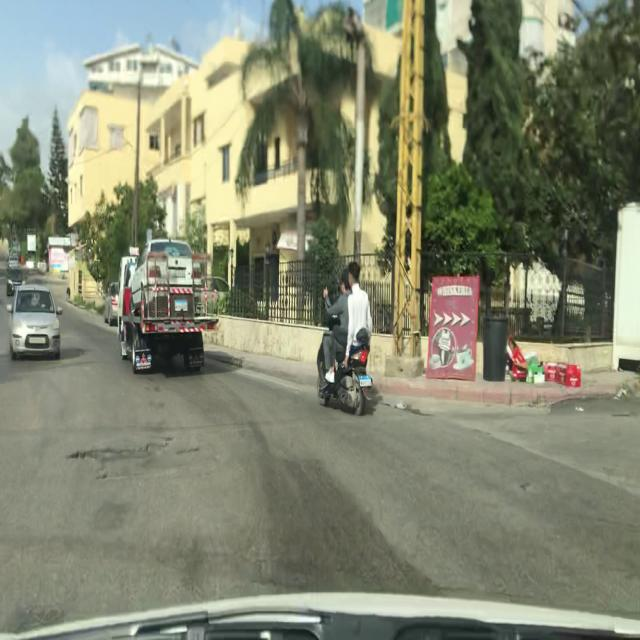Pothole: (67, 441, 171, 470)
